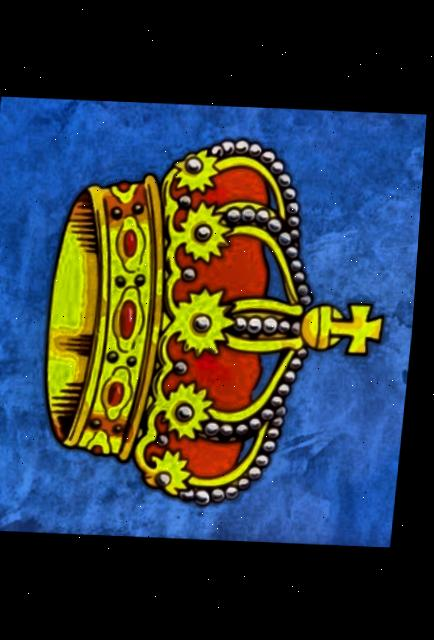La Corona: (0, 95, 429, 547)
